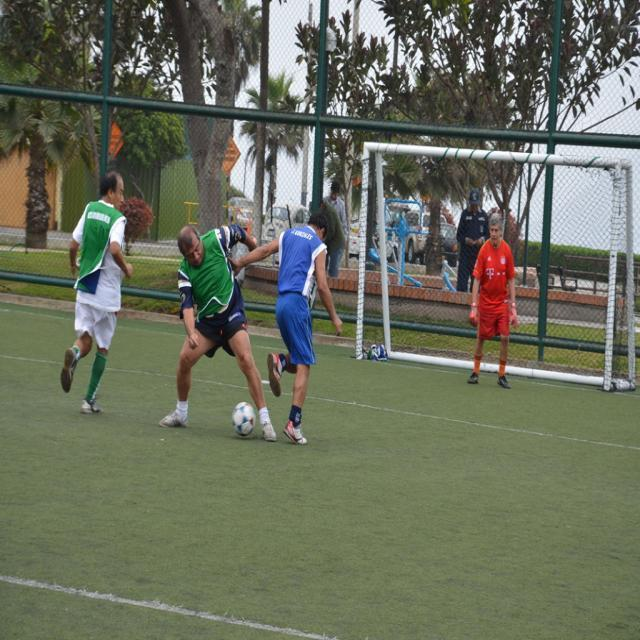football: (219, 395, 269, 453)
